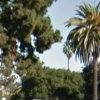Palm tree: (63, 7, 100, 91)
